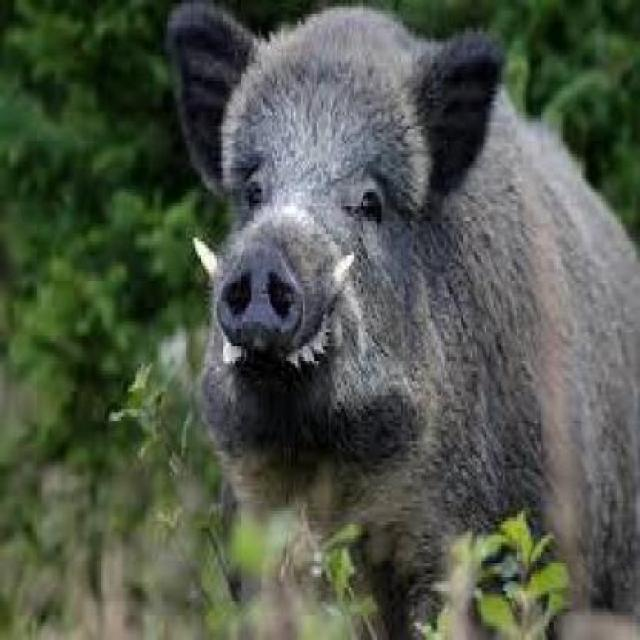wildboar: (161, 0, 636, 632)
